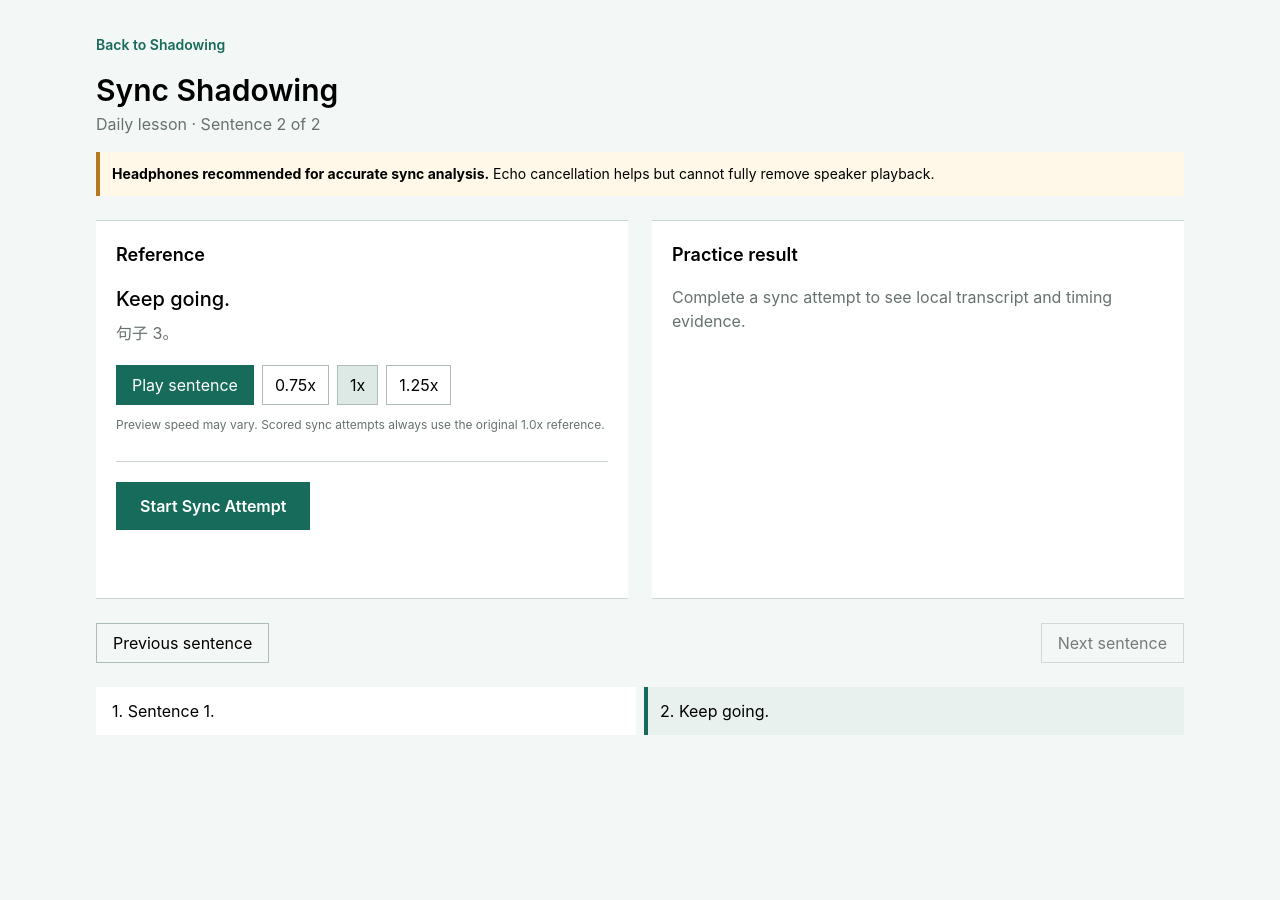
Scenario: Shadowing Workspace › hides noise-only sentences, cleans mixed speech, and skips hidden deep links
The width and height of the screenshot is (1280, 900).
Check: the text "Daily lesson · Sentence 2 of 2" is shown, box [96,114,320,134]
Check: the text "Keep going." is shown, box [116,287,230,311]
Click the button "Previous sentence" at (183, 643), box [96,623,269,663]
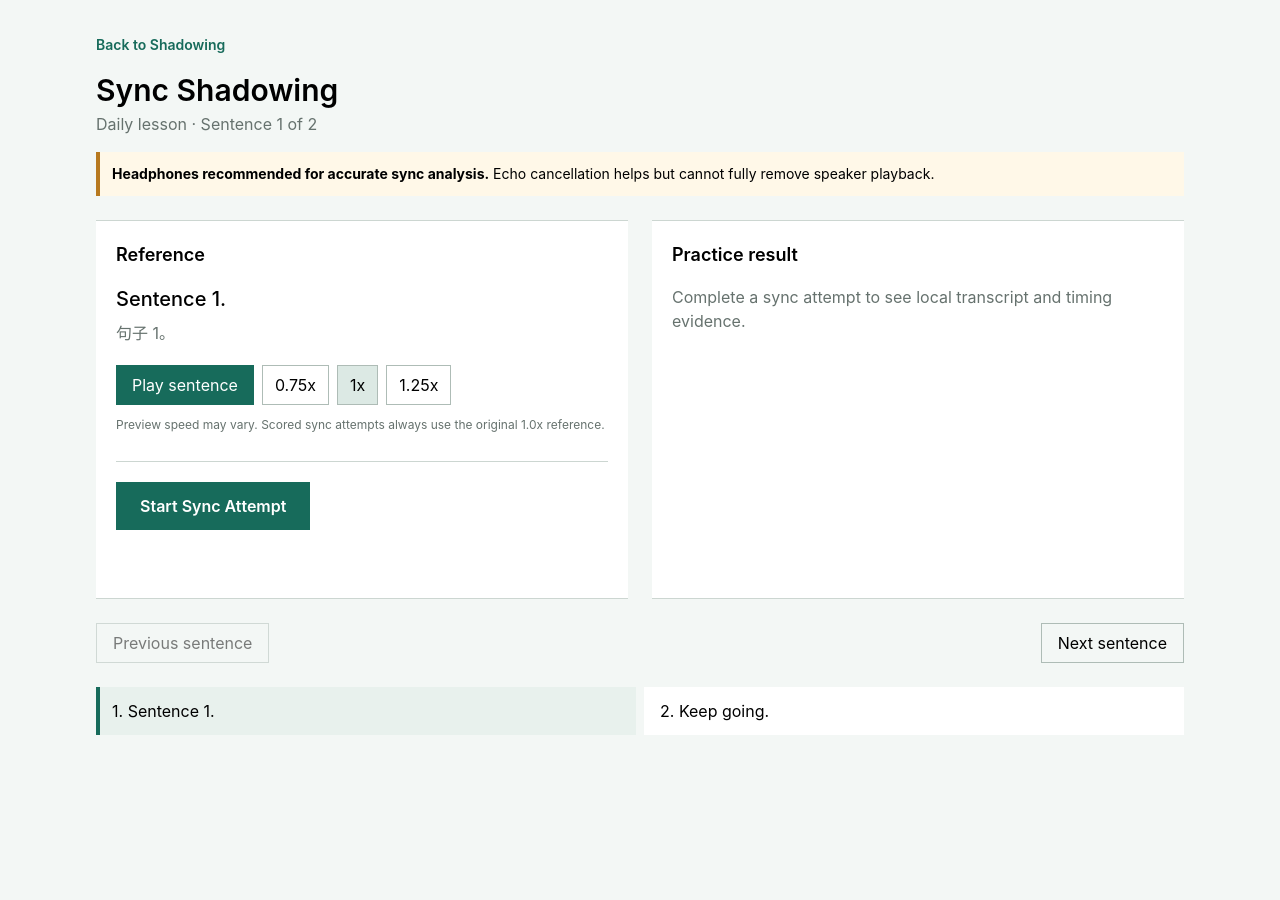
Check: the text "Daily lesson · Sentence 1 of 2" is shown, box [96,114,317,134]
